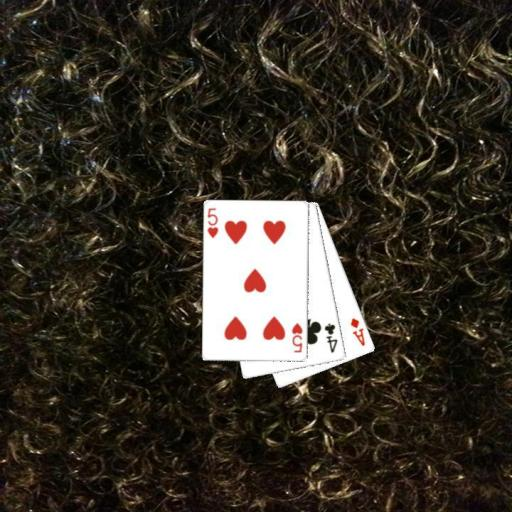4C: (322, 320, 340, 354)
5H: (205, 205, 220, 240), (290, 320, 305, 354)
AD: (348, 315, 367, 348)
